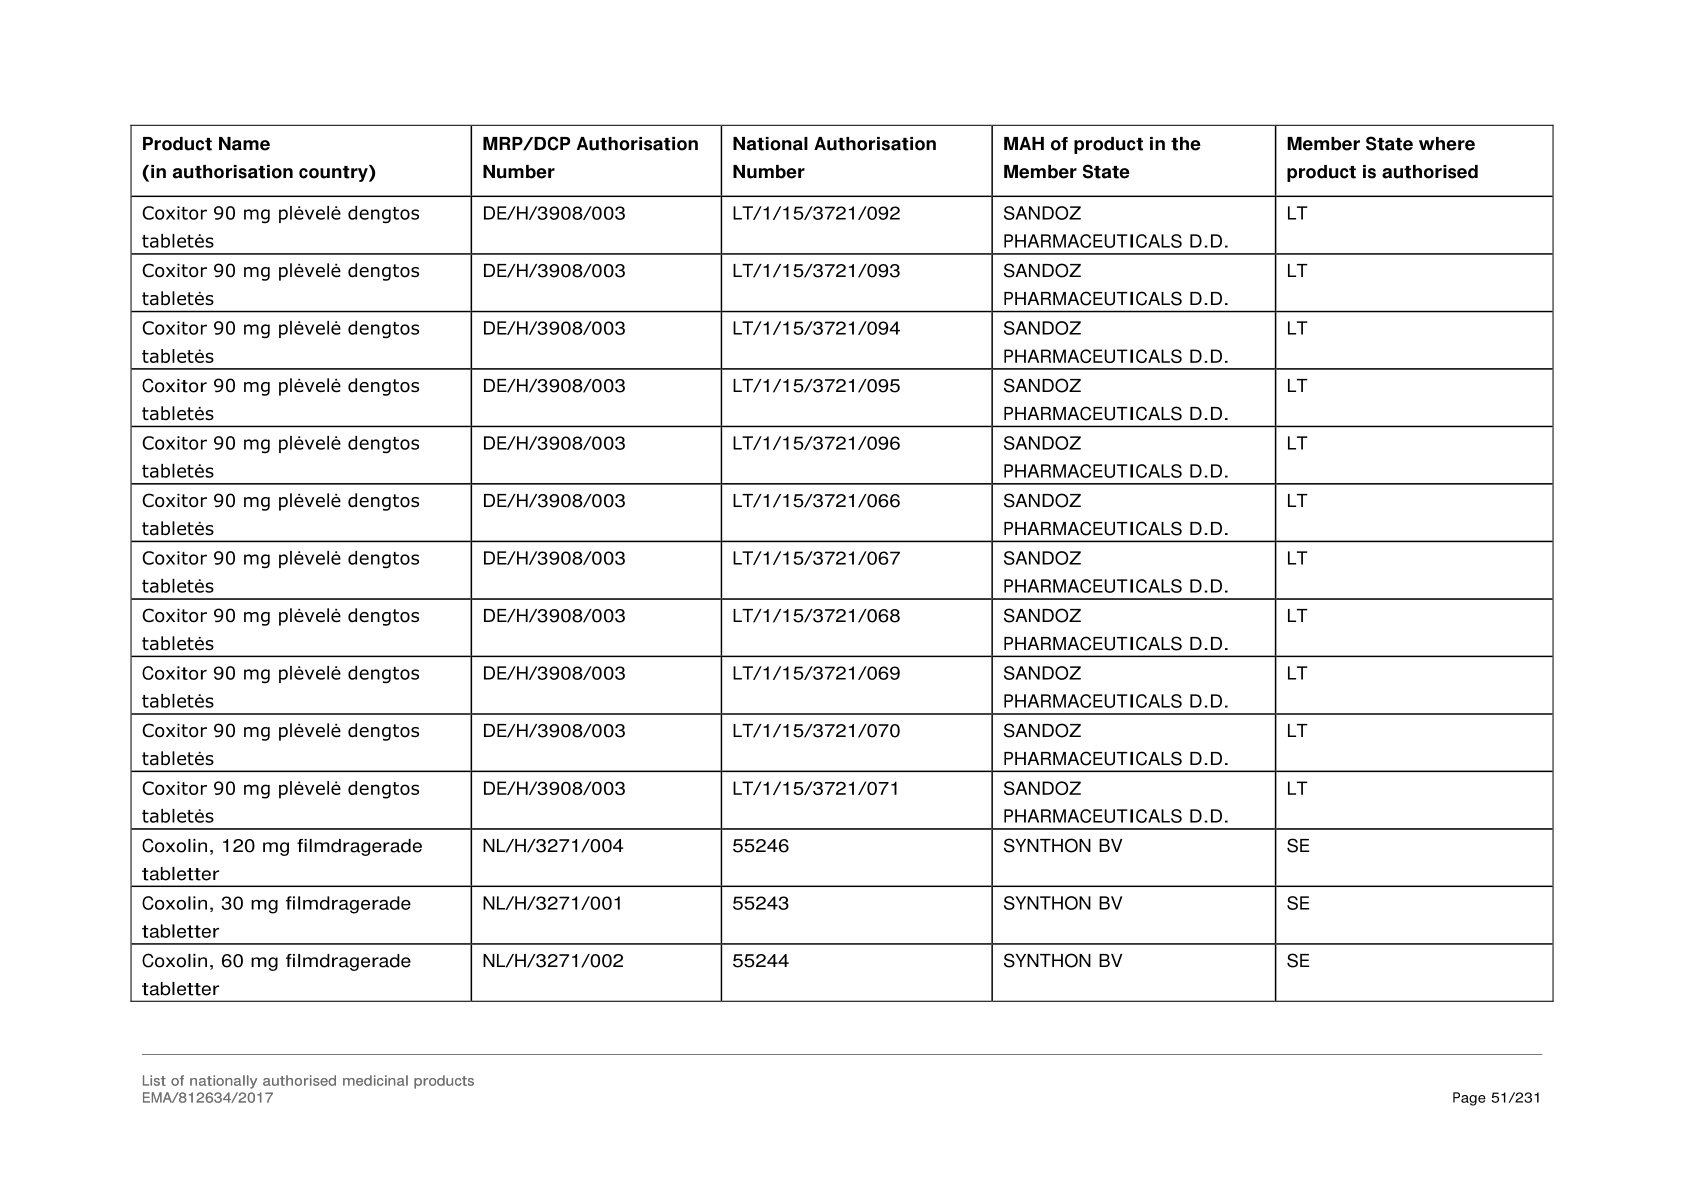full_lined: (129, 124, 1555, 1003)
